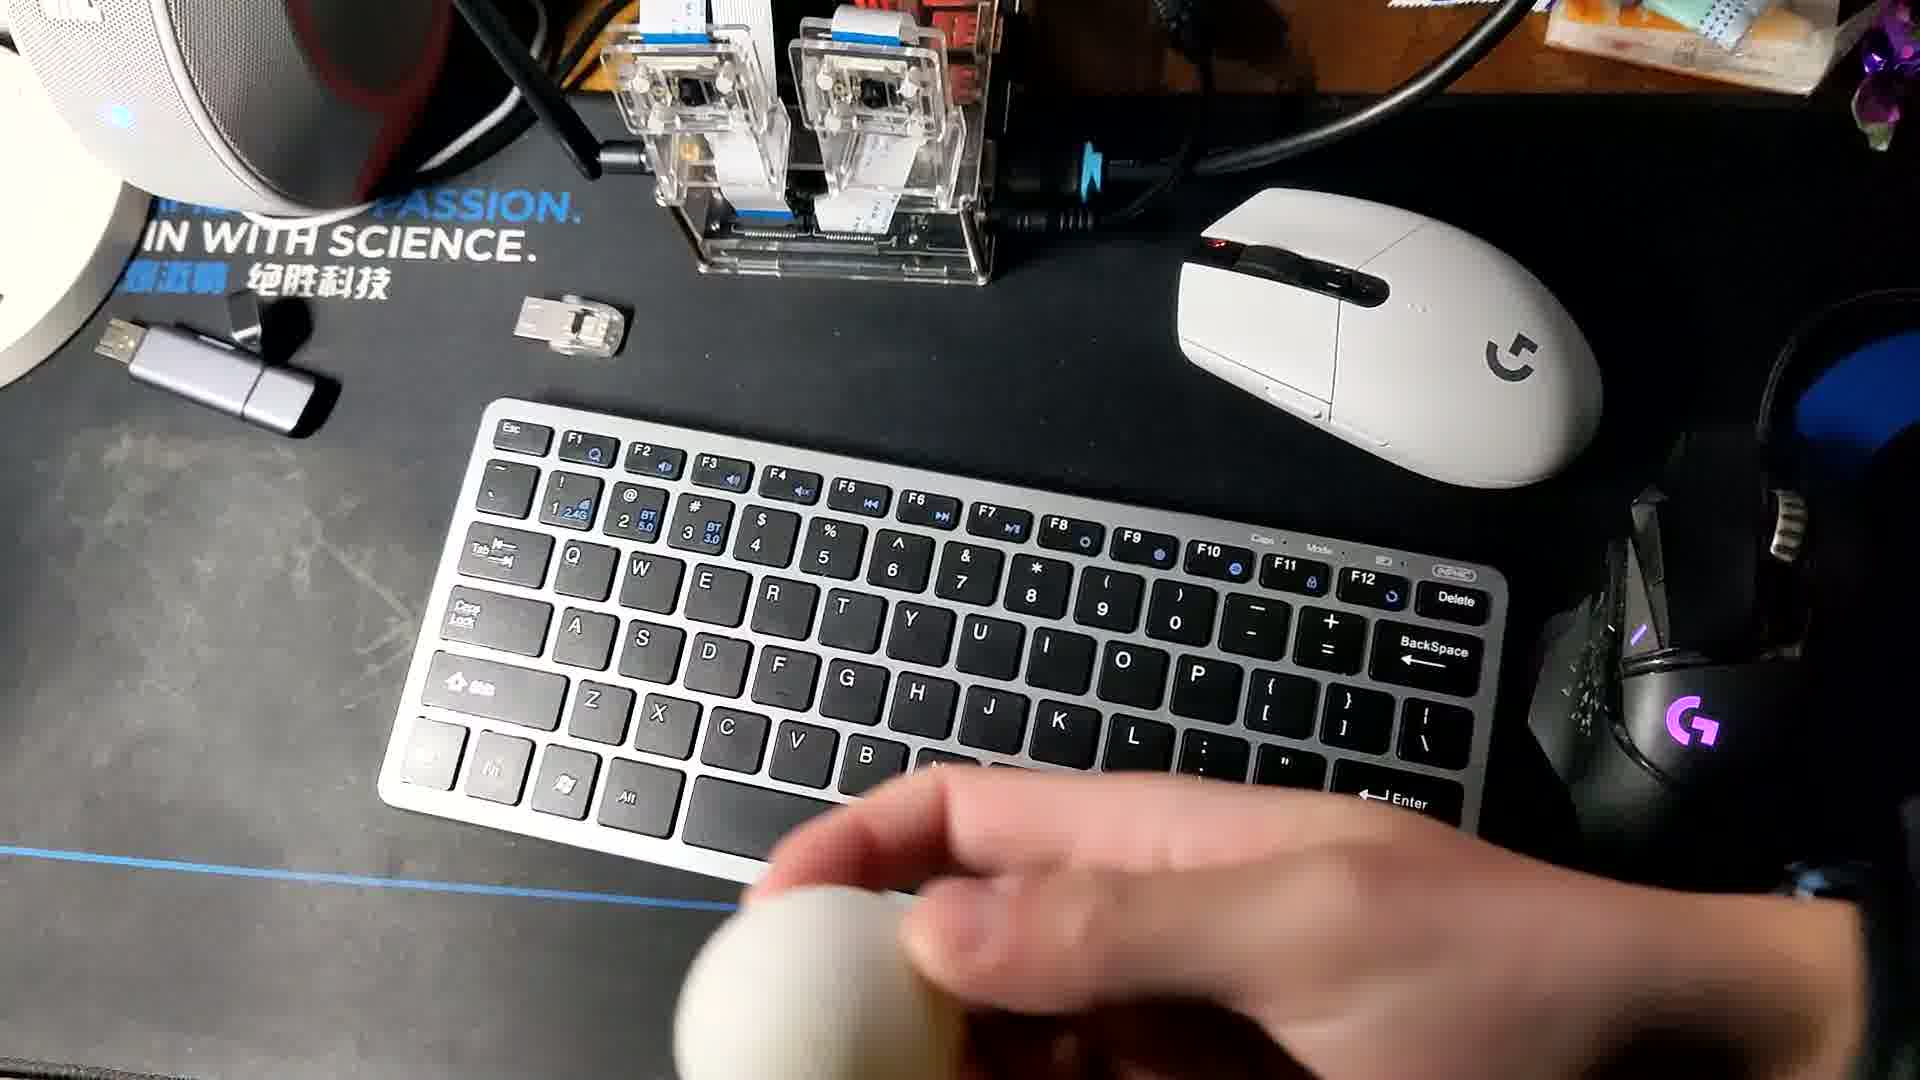Ball: (667, 884, 973, 1080)
